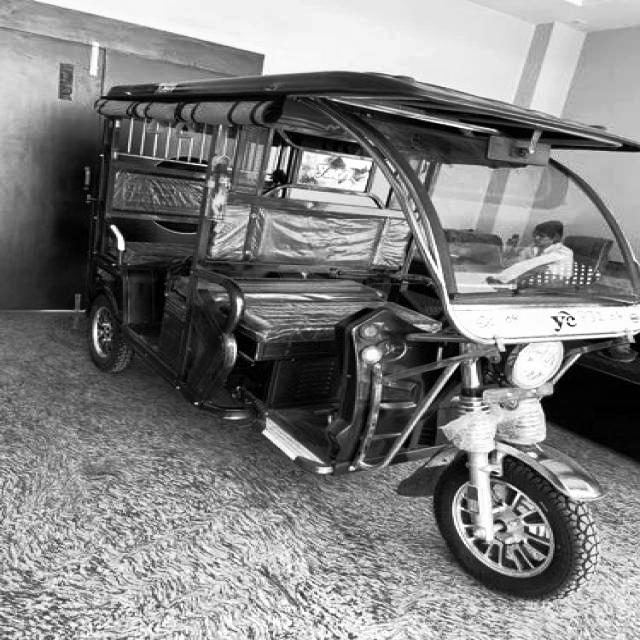Toto: (86, 59, 632, 601)
